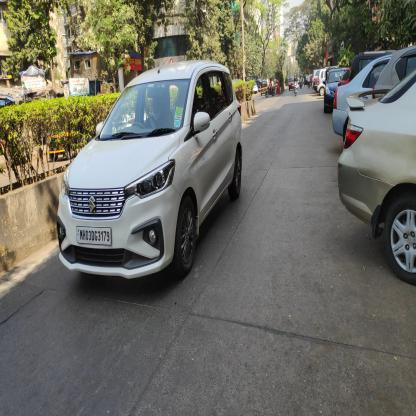license: (76, 226, 112, 245)
